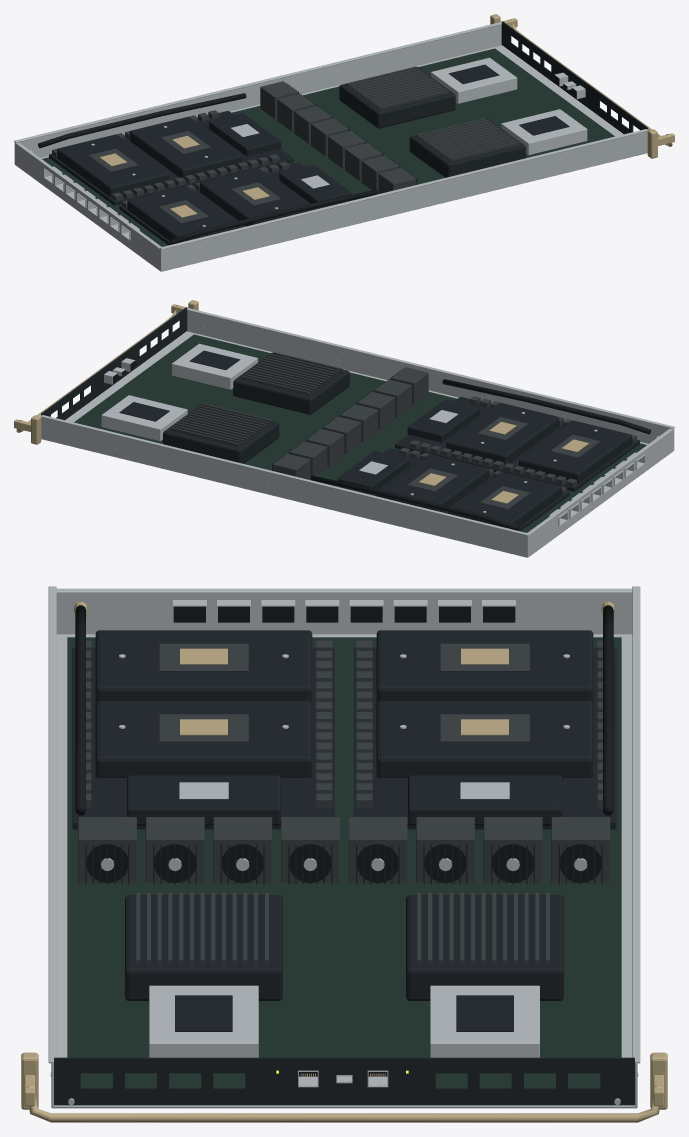
The model's file is SM_GB200_ComputeNode.fbx.
3 views of the same model, one above another, from view 1: azimuth 30°, elevation 25°; view 2: azimuth 150°, elevation 25°; view 3: azimuth 270°, elevation 25° (orthographic). The views are drawn at different scales.
Parts seen in each view (by area): view 1: SM_GB200_ComputeNode; view 2: SM_GB200_ComputeNode; view 3: SM_GB200_ComputeNode.
Part boxes in pixels (bbox=[...]): SM_GB200_ComputeNode: bbox=[14, 14, 674, 271]; SM_GB200_ComputeNode: bbox=[14, 300, 674, 557]; SM_GB200_ComputeNode: bbox=[21, 586, 667, 1122].
Bounding box in the file's own units: 87.95 × 48.3 × 4.35.
